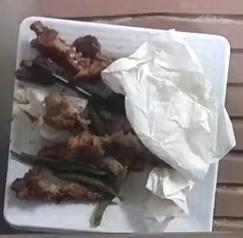green_beans: (11, 145, 116, 202)
